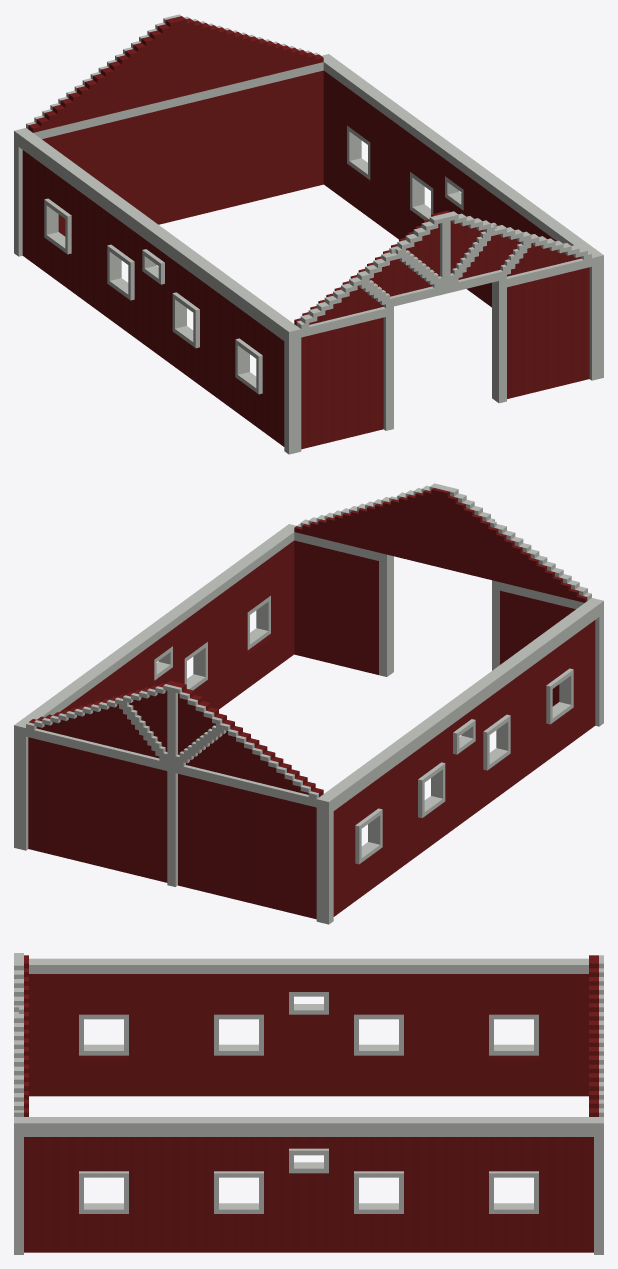
File: farm-21-barn.obj
3 renders of one model, top to bottom at view 1: azimuth 30°, elevation 25°; view 2: azimuth 150°, elevation 25°; view 3: azimuth 270°, elevation 25°, orthographic. The views are drawn at different scales.
Visible parts, largest first — view 1: barn; view 2: barn; view 3: barn.
Boxes of the visible parts, x1,y1,x2,y2 form: barn: (14,14,603,454); barn: (14,483,603,924); barn: (14,953,603,1254).
Size of the model in its own units: 7.8 by 4.7 by 11.8.
1 material, 1 textured.
